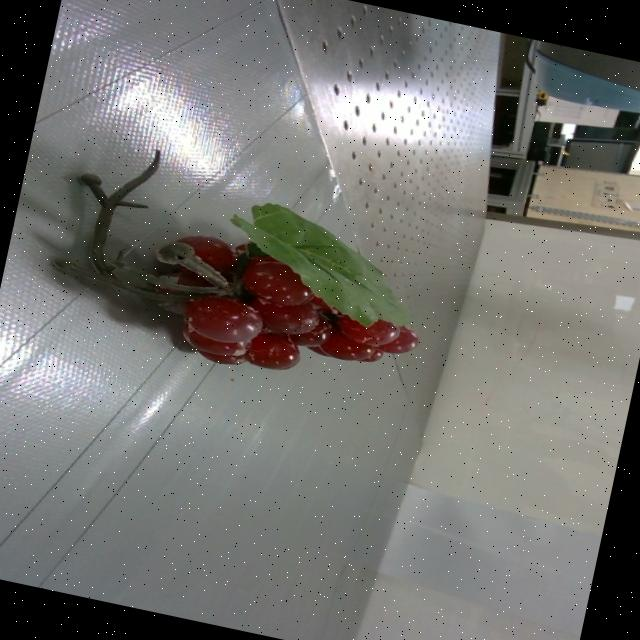grape: (55, 165, 419, 369)
